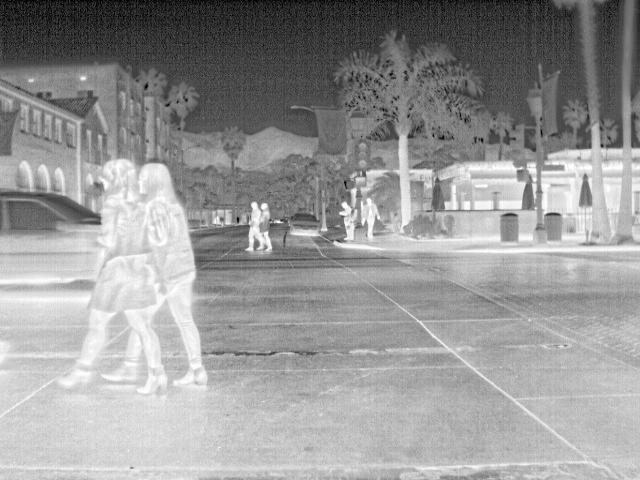car: (1, 184, 102, 294), (285, 211, 323, 239)
person: (54, 154, 169, 394), (132, 162, 212, 390), (257, 201, 277, 252), (361, 198, 382, 241), (245, 203, 262, 253), (336, 199, 356, 240)
